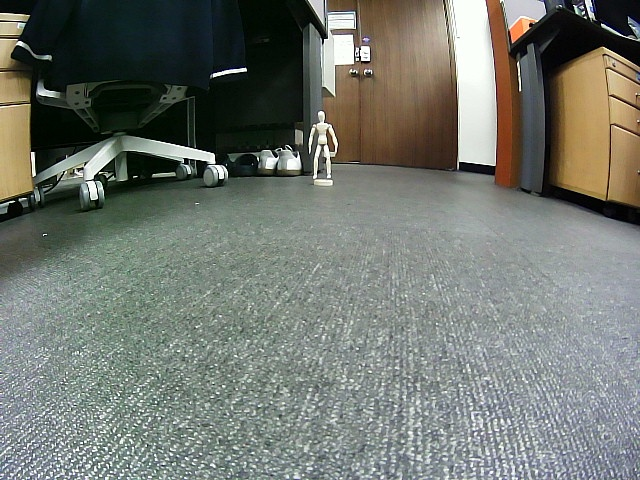person: (308, 111, 338, 179)
